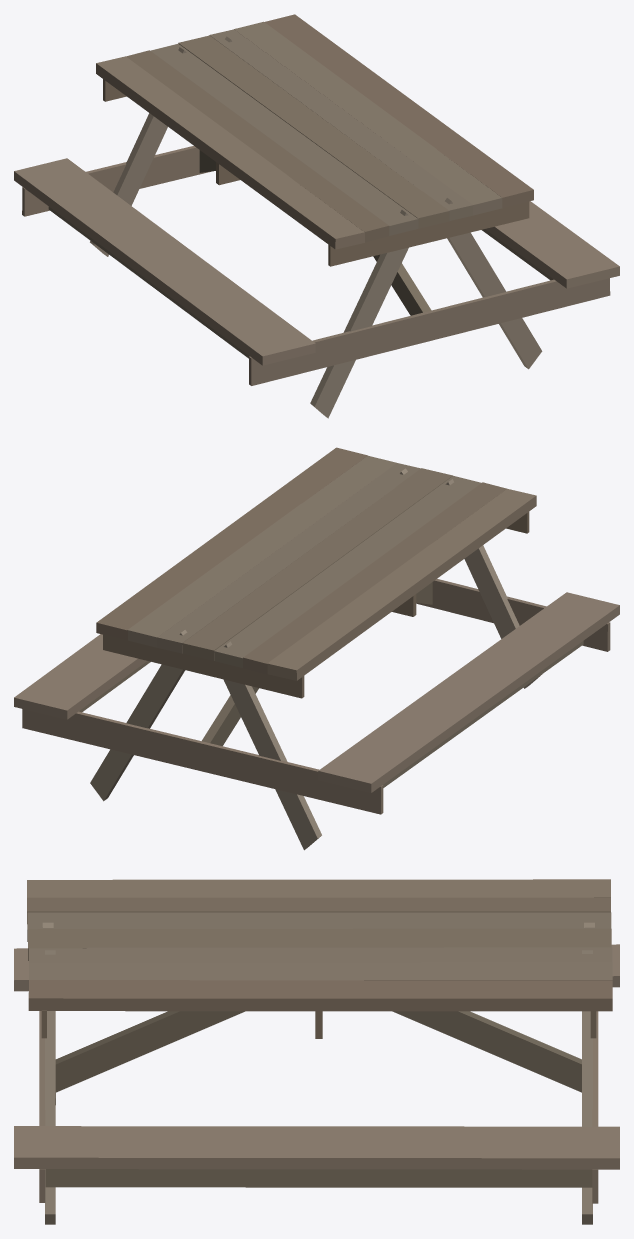
Rendered from picnic_table.glb.
3 renders of one model, top to bottom at view 1: azimuth 30°, elevation 25°; view 2: azimuth 150°, elevation 25°; view 3: azimuth 270°, elevation 25°, orthographic. The views are drawn at different scales.
Parts seen in each view (by area): view 1: geometry_0; view 2: geometry_0; view 3: geometry_0.
Boxes of the visible parts, <box> form: geometry_0: <box>14,14,619,418</box>; geometry_0: <box>14,447,619,850</box>; geometry_0: <box>14,879,619,1224</box>.
Bounding box in the file's own units: 1.5 × 0.75 × 1.8.
